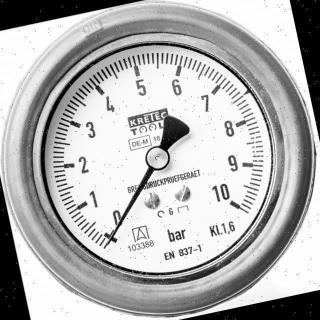gauge: (0, 0, 320, 320), (218, 188, 247, 218), (97, 219, 124, 251), (145, 146, 171, 170), (100, 237, 114, 252)
